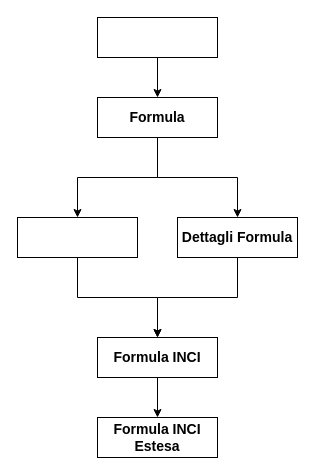
The diagram is 315 pixels wide and 475 high, and some of its shapes have lost their labels. The centre of each missing label's shape, as x and y in pixels:
Componenti: pixel 77 237
Prodotto: pixel 157 37
